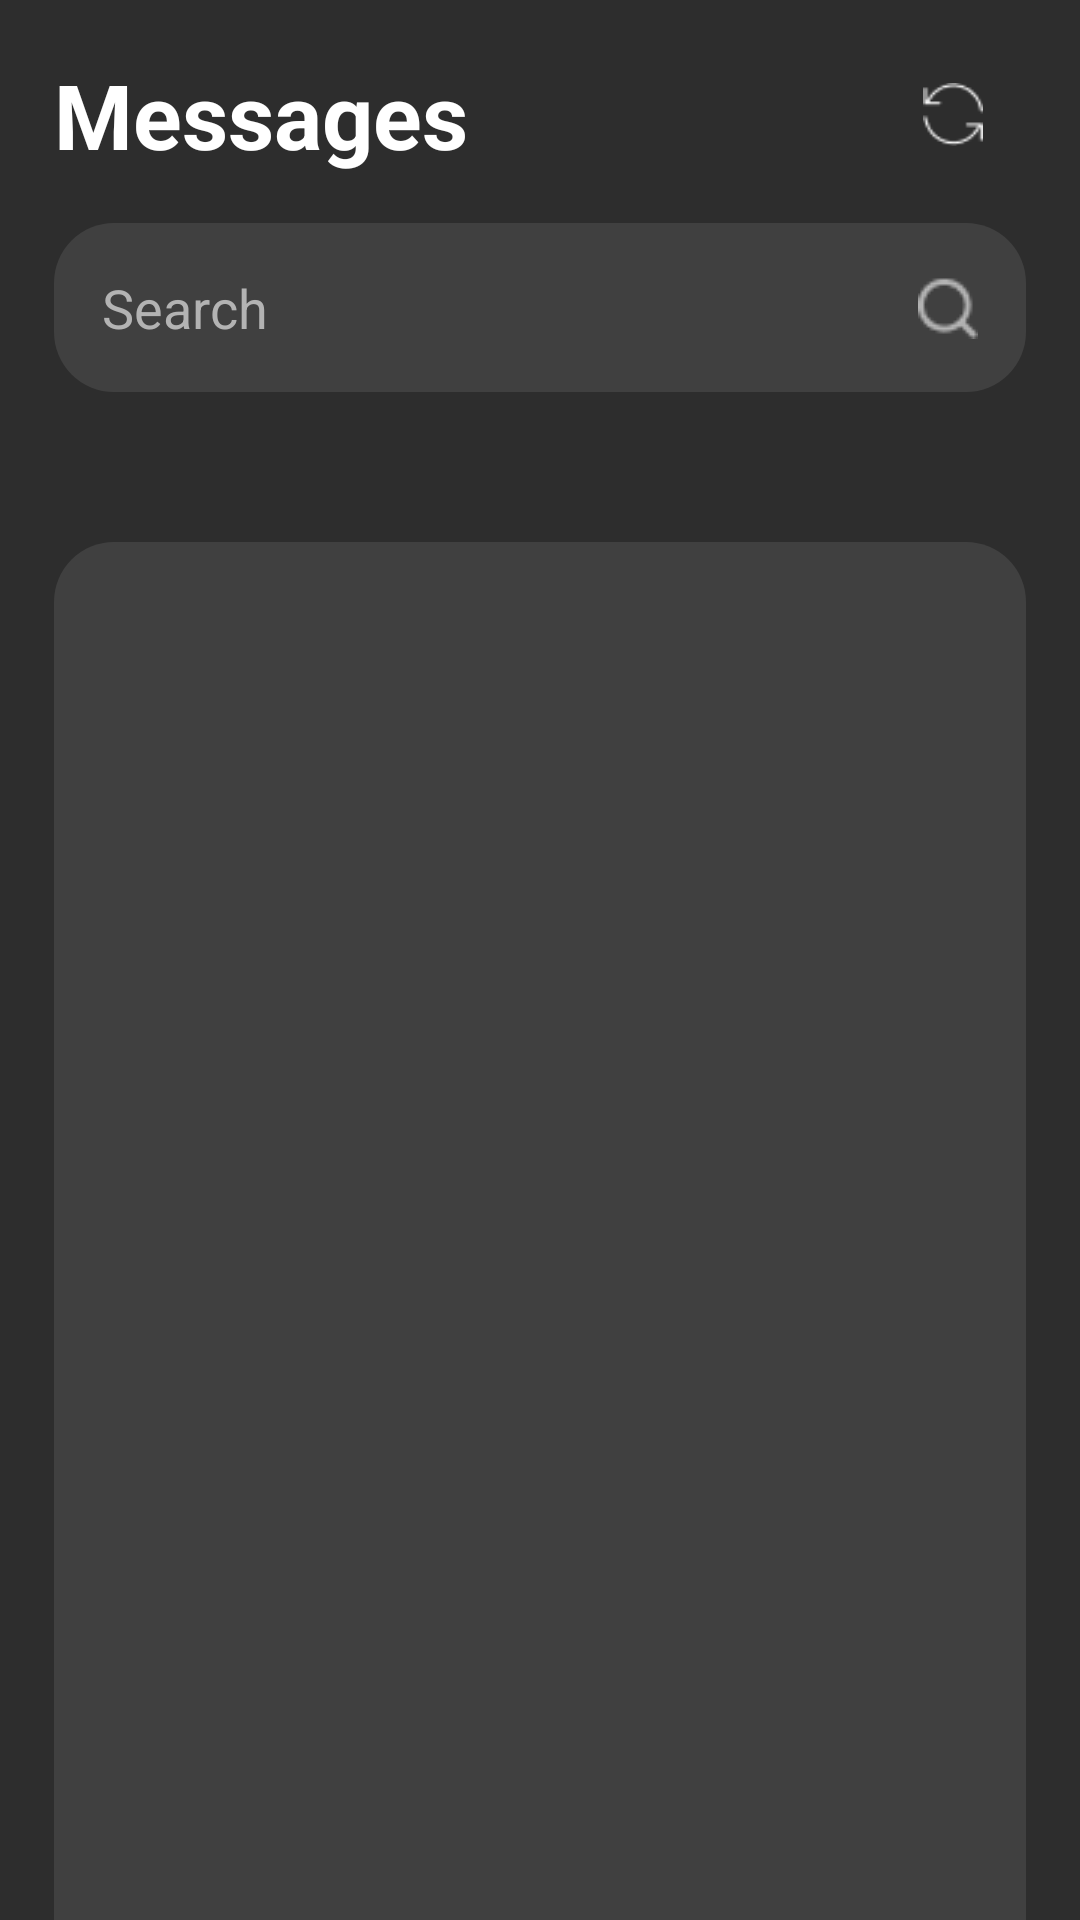

Screen size 1080px×1920px. Icon name, then its center in pixels as (x=x, y=y):
recent chat refresh: (x=953, y=114)
